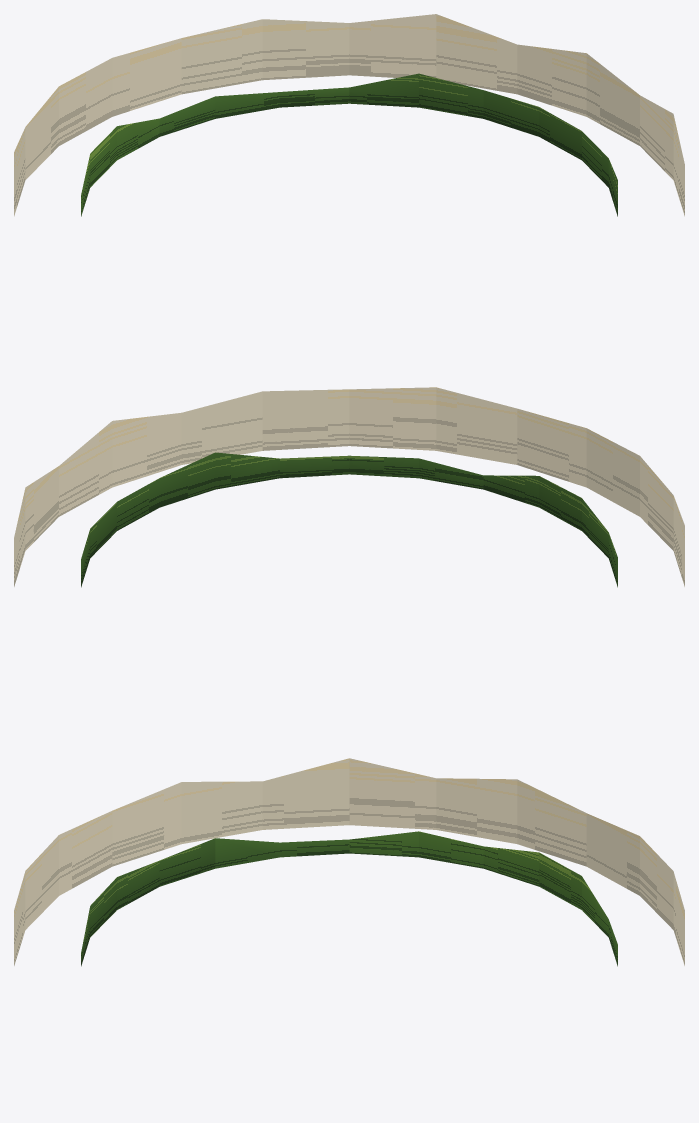
The model's file is mter.backdrop__mountains.glb.
3 views of the same model, one above another, from view 1: azimuth 30°, elevation 25°; view 2: azimuth 150°, elevation 25°; view 3: azimuth 270°, elevation 25° (orthographic).
Parts seen in each view (by area): view 1: kit_shell_vista_far, kit_shell_vista; view 2: kit_shell_vista_far, kit_shell_vista; view 3: kit_shell_vista_far, kit_shell_vista.
Boxes of the visible parts, <box> form: kit_shell_vista_far: <box>14,14,684,216</box>; kit_shell_vista: <box>81,73,617,216</box>; kit_shell_vista_far: <box>14,387,684,586</box>; kit_shell_vista: <box>81,452,617,587</box>; kit_shell_vista_far: <box>14,758,684,965</box>; kit_shell_vista: <box>81,831,617,966</box>.
Bounding box in the file's own units: 650 × 71.56 × 650.
2 materials, 2 textured.
